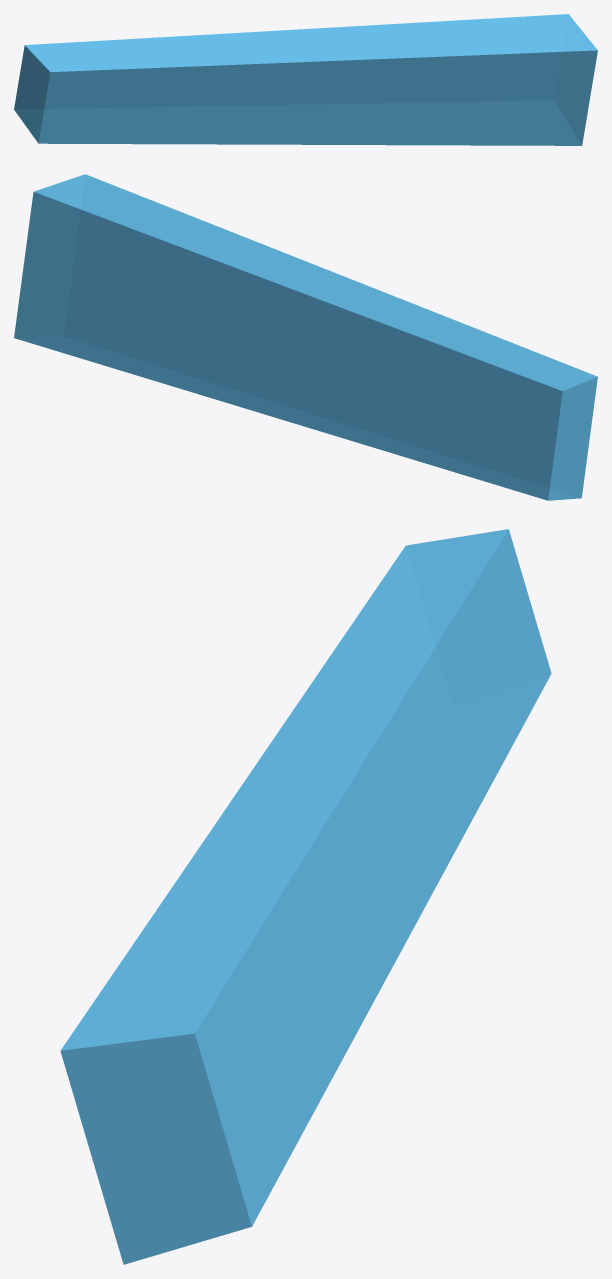
File: Event_421115418_HErechit_46.fbx
3 renders of one model, top to bottom at view 1: azimuth 30°, elevation 25°; view 2: azimuth 150°, elevation 25°; view 3: azimuth 270°, elevation 25°, orthographic. The views are drawn at different scales.
Visible parts, largest first — view 1: Model; view 2: Model; view 3: Model.
Boxes of the visible parts, x1,y1,x2,y2 form: Model: (14, 14, 597, 145); Model: (14, 174, 597, 500); Model: (60, 529, 551, 1264).
Bounding box in the file's own units: 3.42 × 1 × 1.56.
